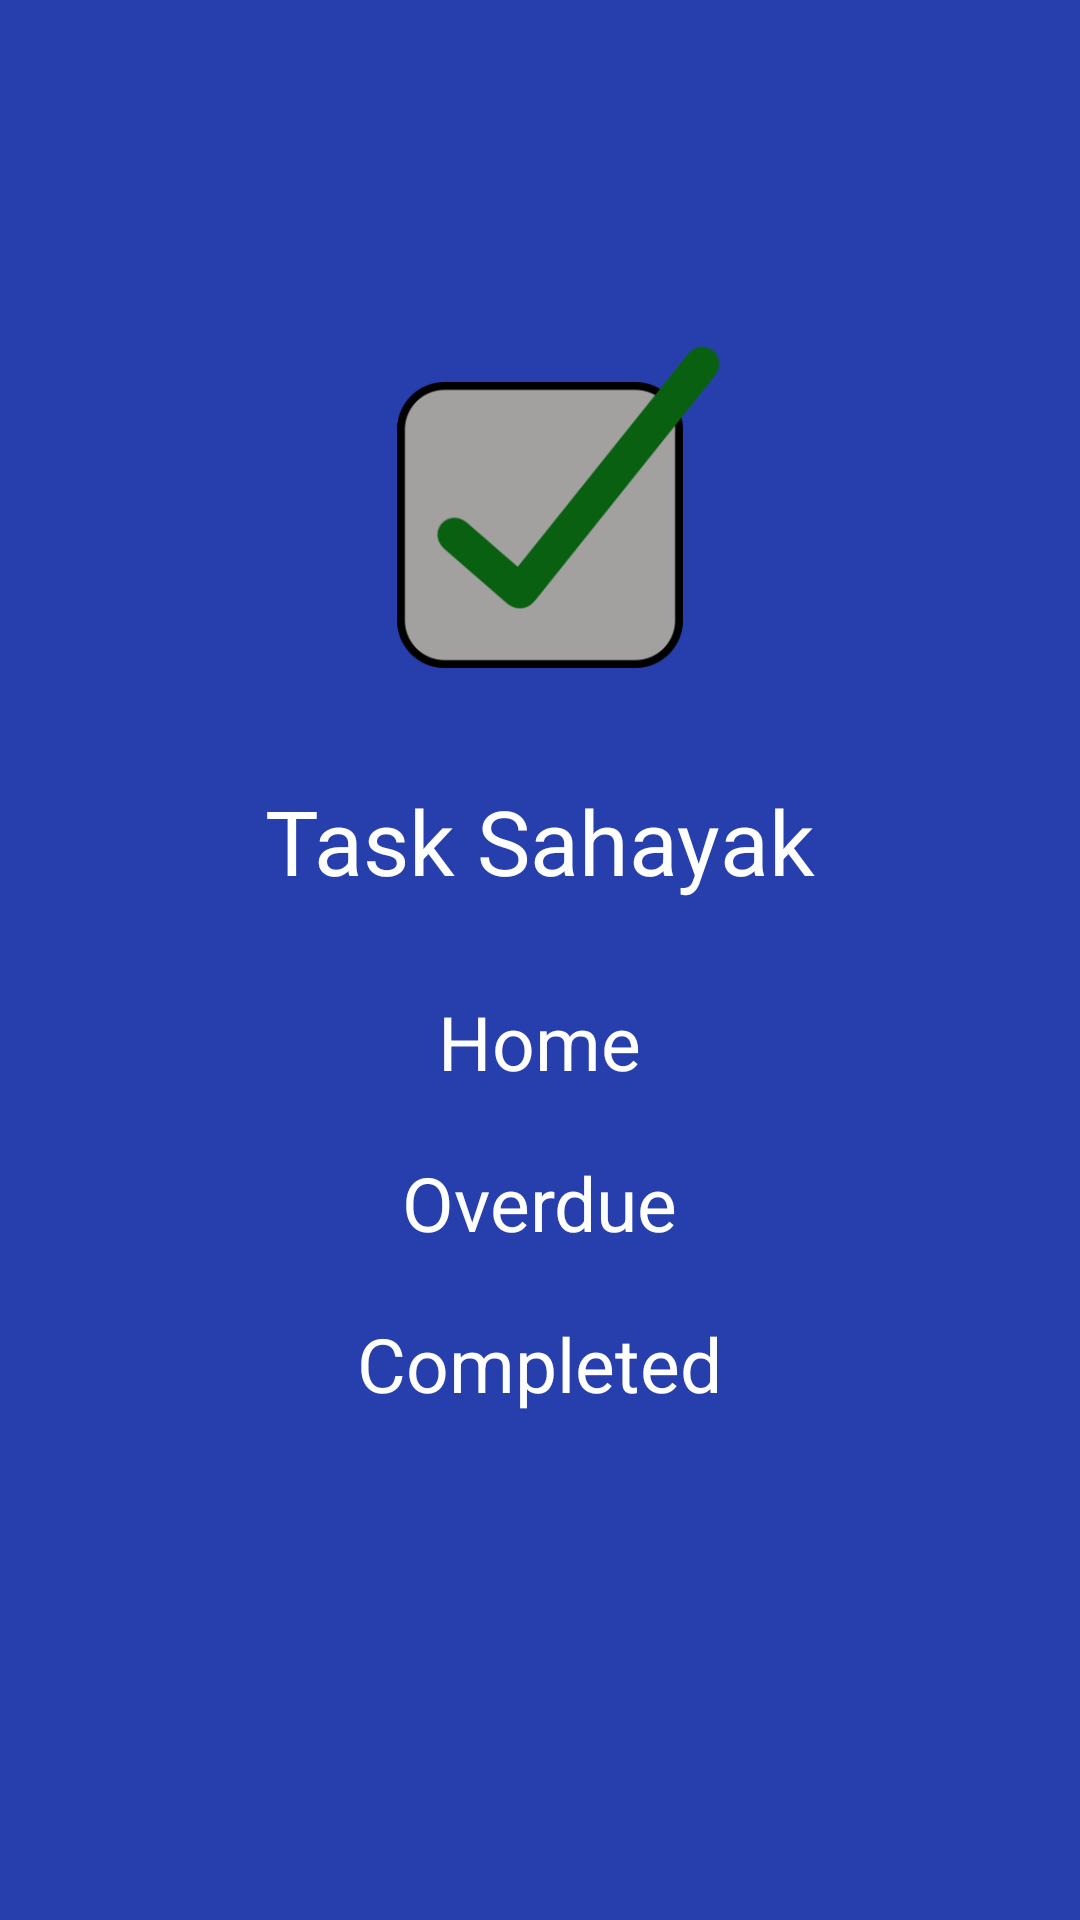

Named icons in this screenshot (1080px x 1920px) and their bounding boxes, (x1, y1, x2, y2):
check: (397, 346, 720, 668)
